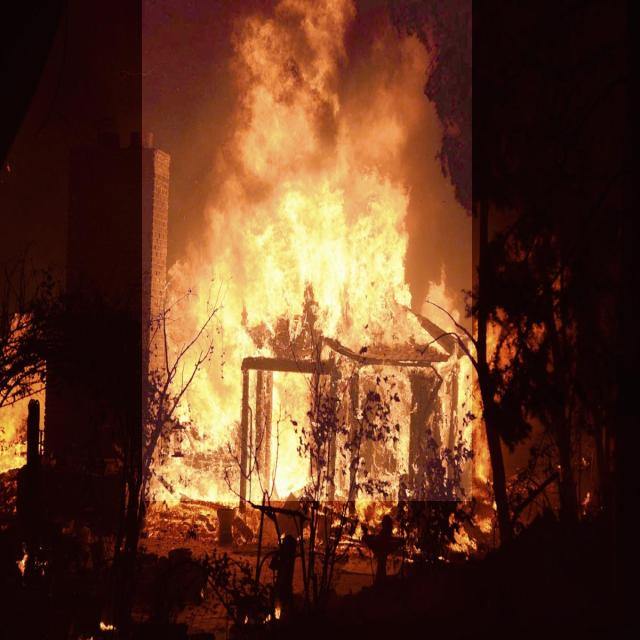Fire: (142, 0, 472, 501)
